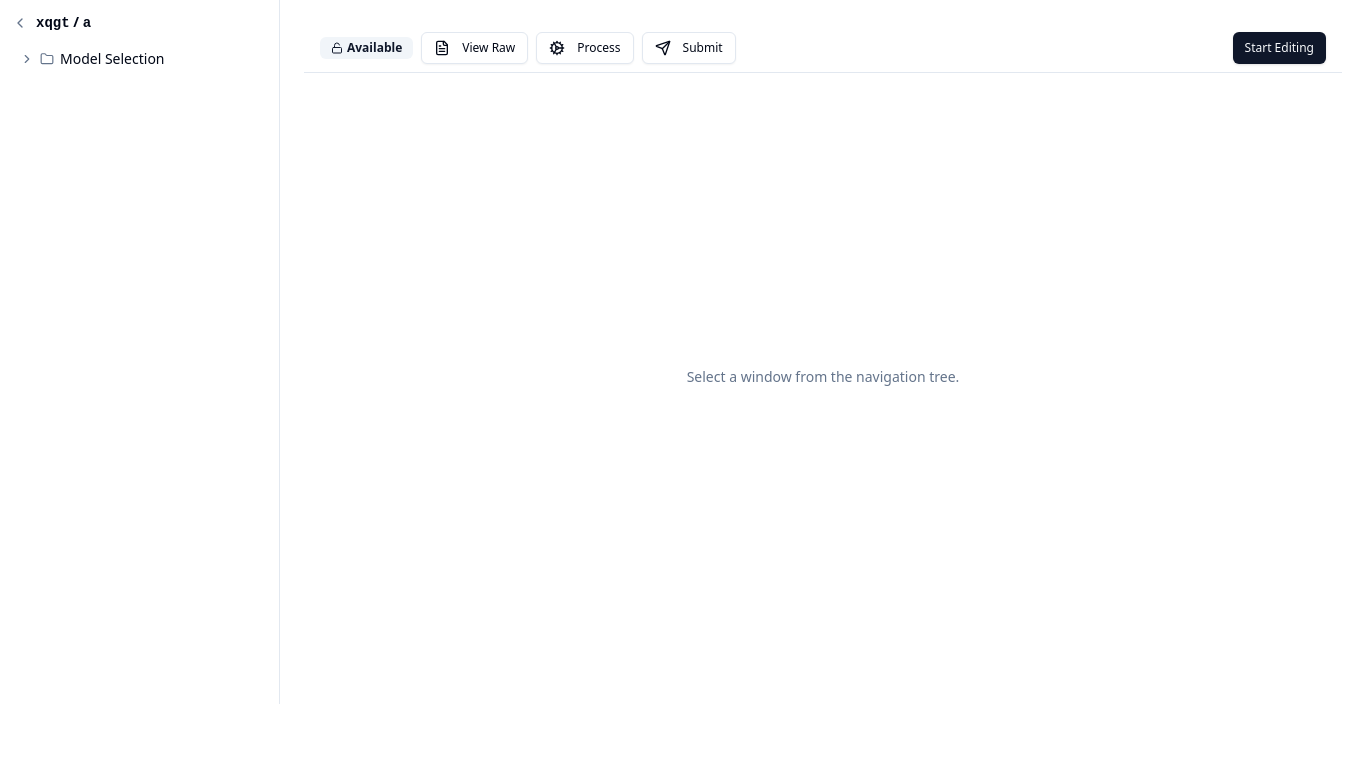
Test case: Bridge edit flow › starts editing, changes a value, saves, and stops editing
This screenshot has width=1366, height=768.
Expected: the text "Model Selection" is shown, left=60, top=49, right=164, bottom=69
Navigate to a panel that has entry components
Click the button "Model Selection" at (140, 59), box left=12, top=45, right=267, bottom=73
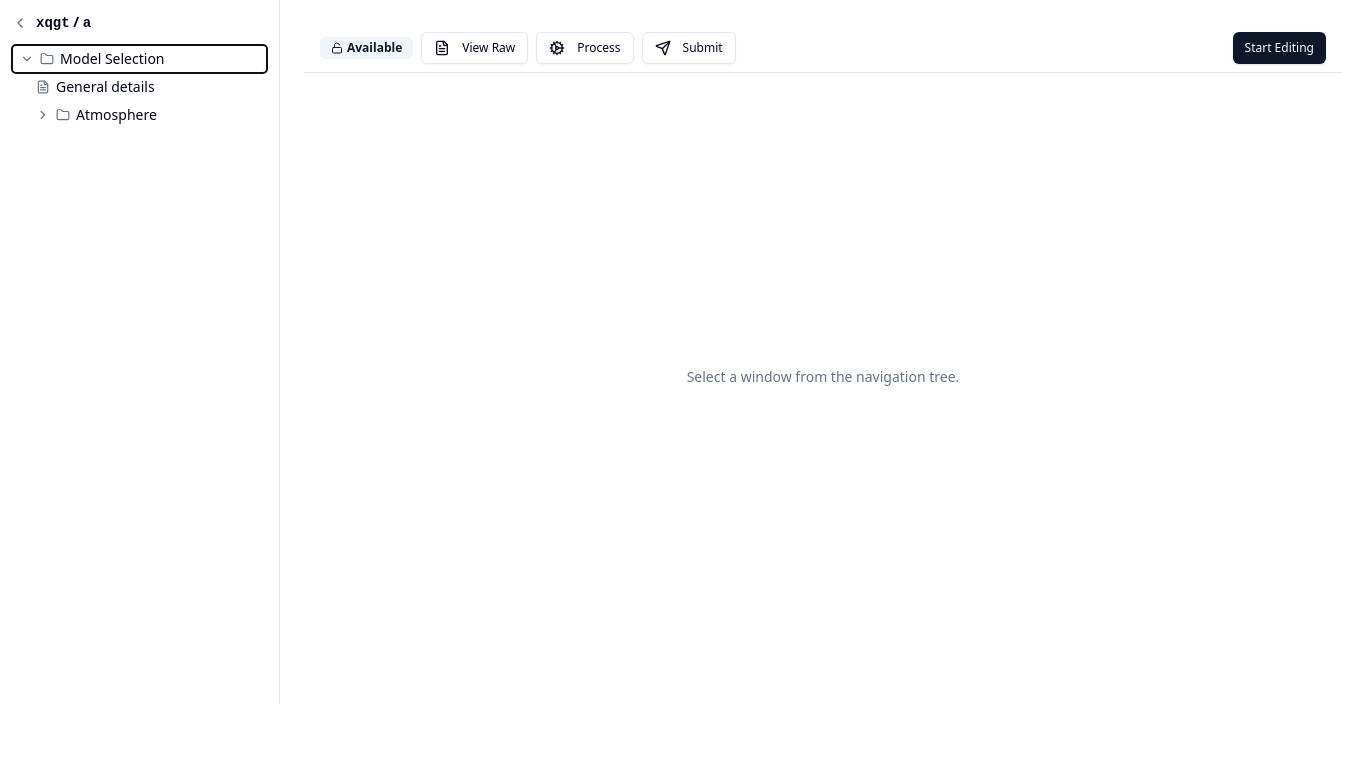
Expected: the text "General details" is shown, left=56, top=77, right=155, bottom=97
Click the button "General details" at (140, 87), box left=12, top=73, right=267, bottom=101
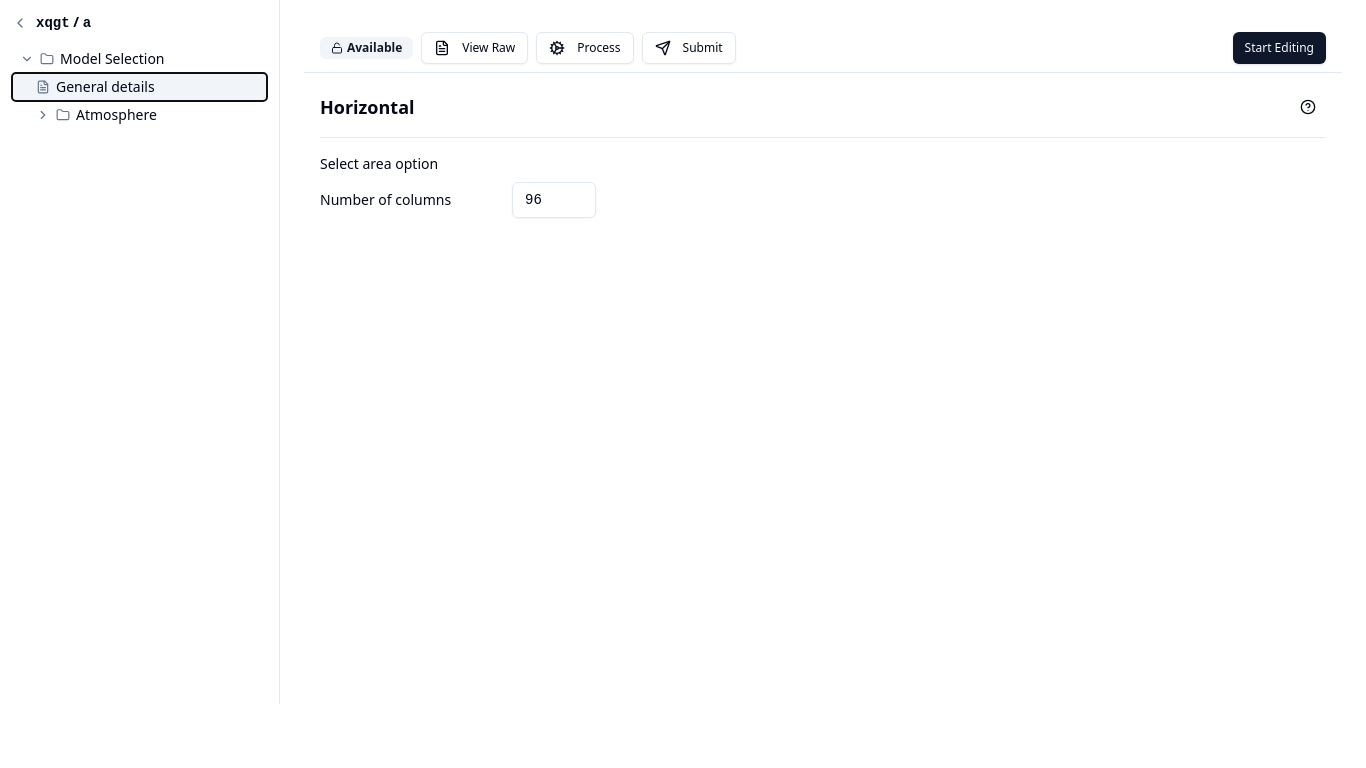
Expected: the text "Available" is shown, left=320, top=37, right=413, bottom=59
Expected: the field showing "96" is shown, left=512, top=182, right=596, bottom=218
Start editing (acquires lock)
Click the button "Start Editing" at (1279, 48), box left=1233, top=32, right=1326, bottom=64
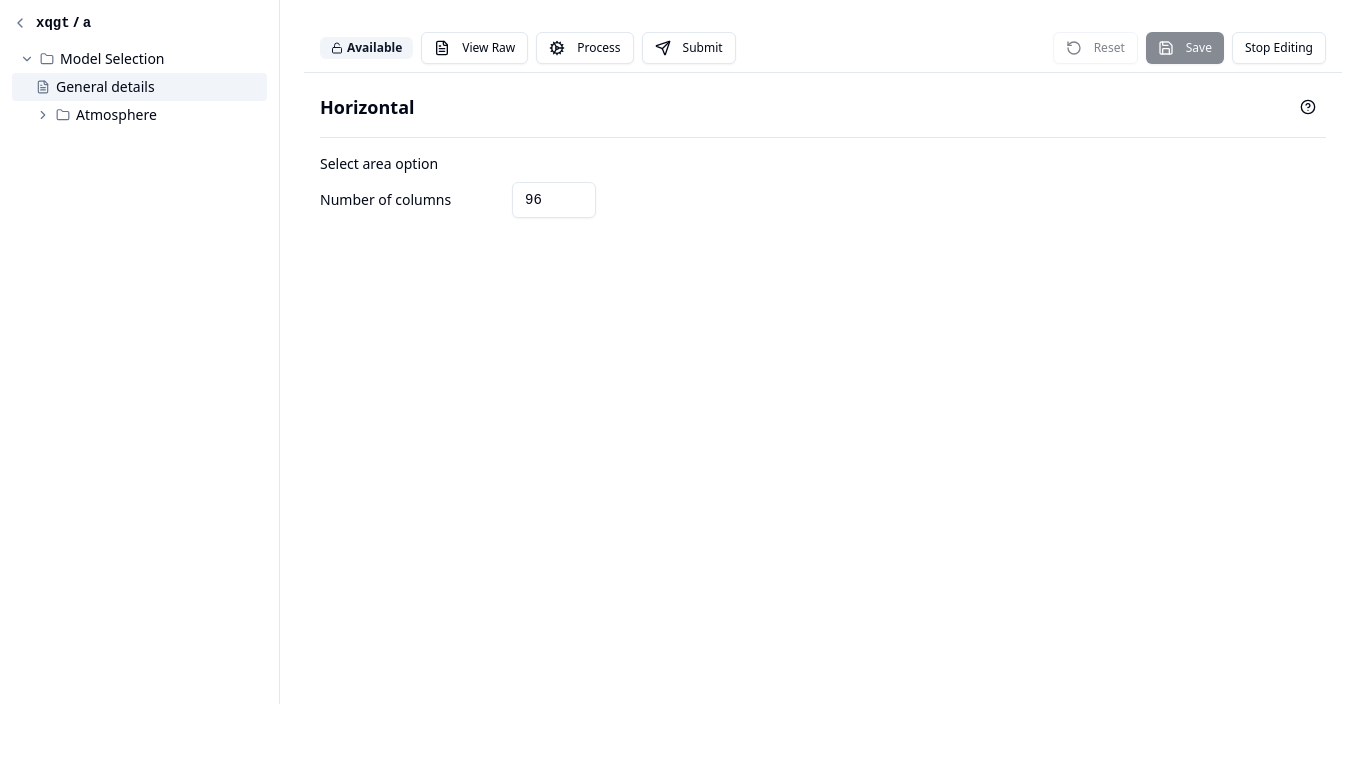
Expected: the button "Save" is shown, left=1146, top=32, right=1224, bottom=64
Change the value
Replace the text in the field showing "96" with "192" at (554, 200), box left=512, top=182, right=596, bottom=218
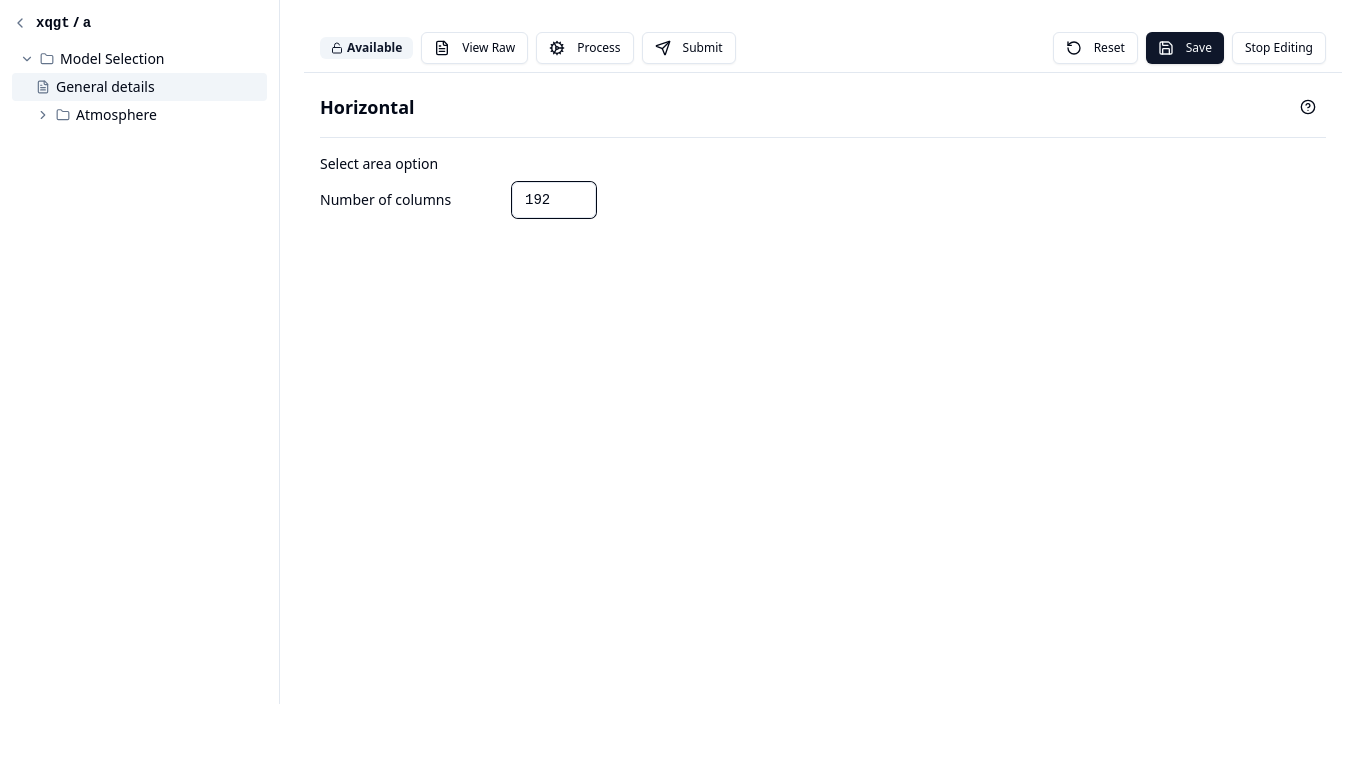
Expected: the button "Save" is enabled
Click save
Click the button "Save" at (1185, 48), box left=1146, top=32, right=1224, bottom=64
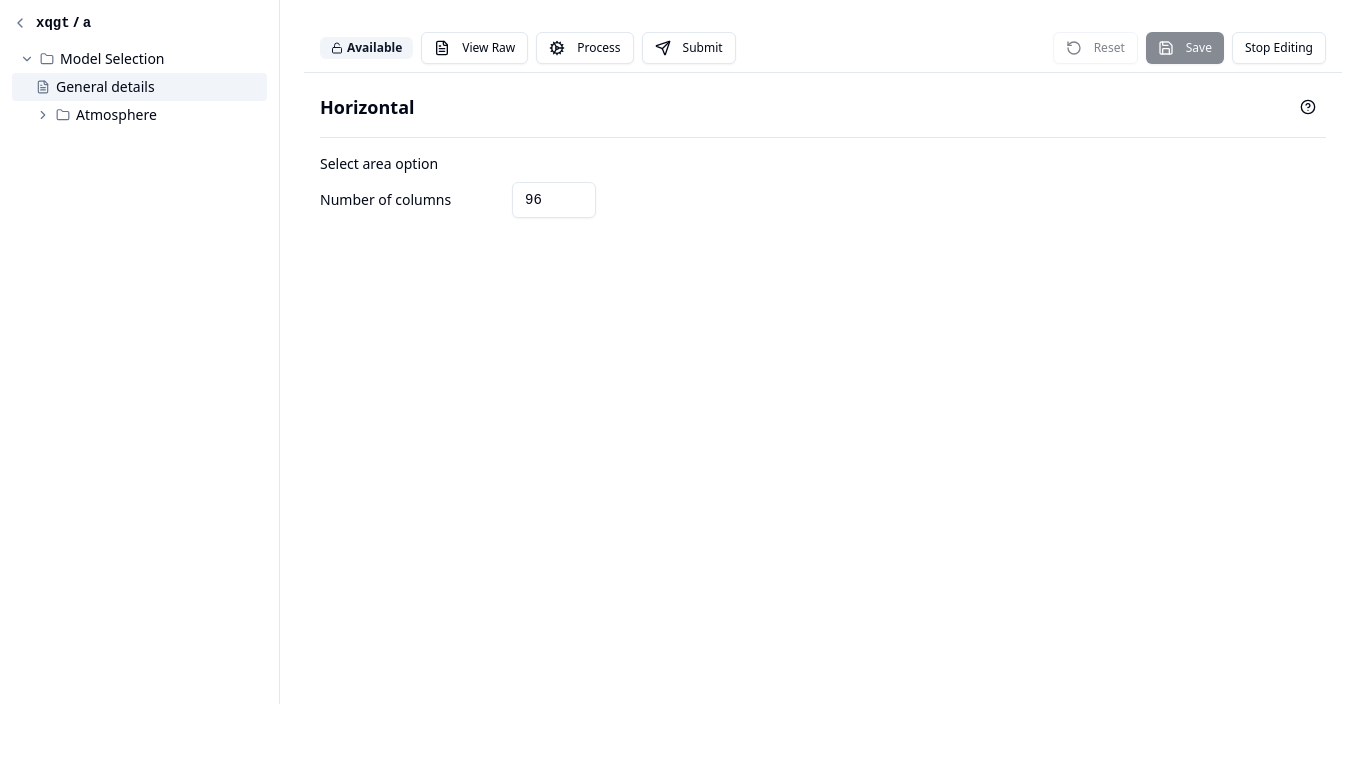
Expected: the button "Save" is disabled, left=1146, top=32, right=1224, bottom=64
Stop editing
Click the button "Stop Editing" at (1279, 48), box left=1232, top=32, right=1326, bottom=64
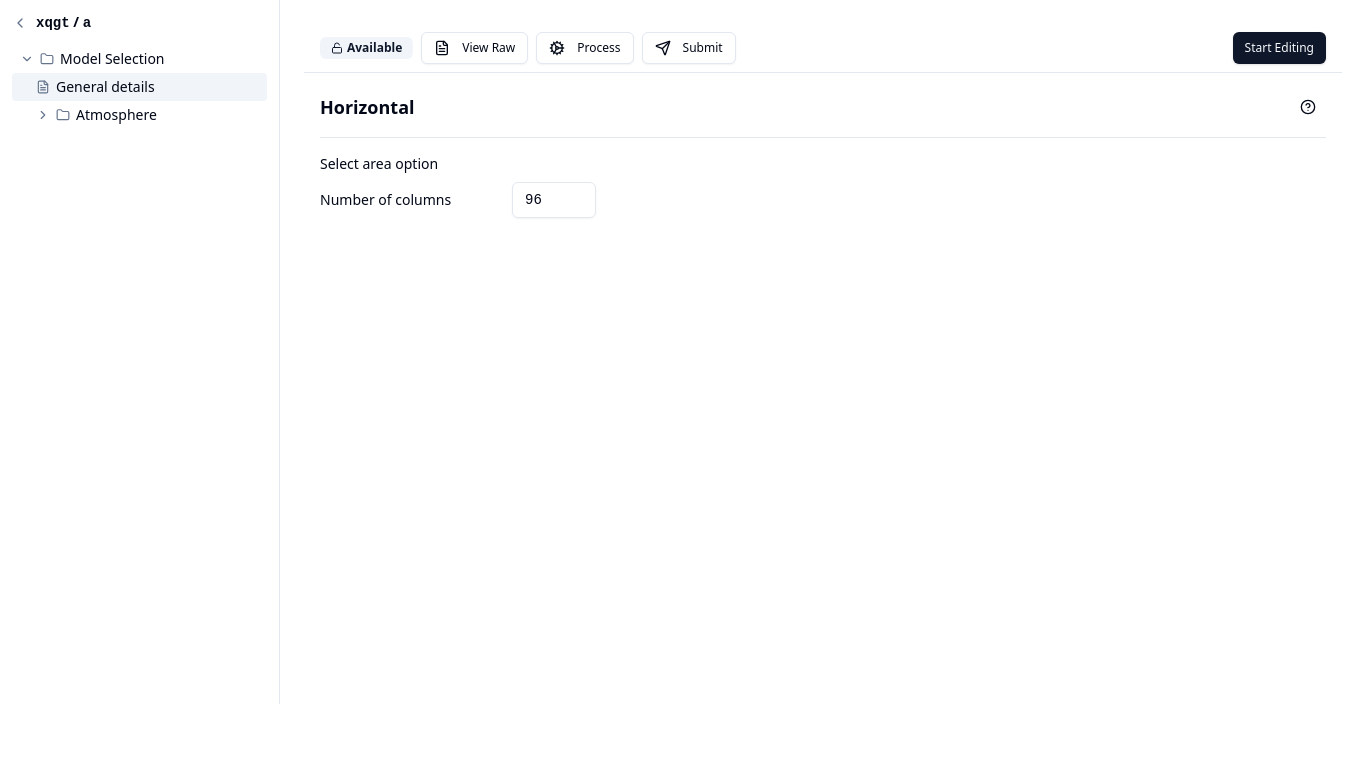
Expected: the button "Start Editing" is shown, left=1233, top=32, right=1326, bottom=64
